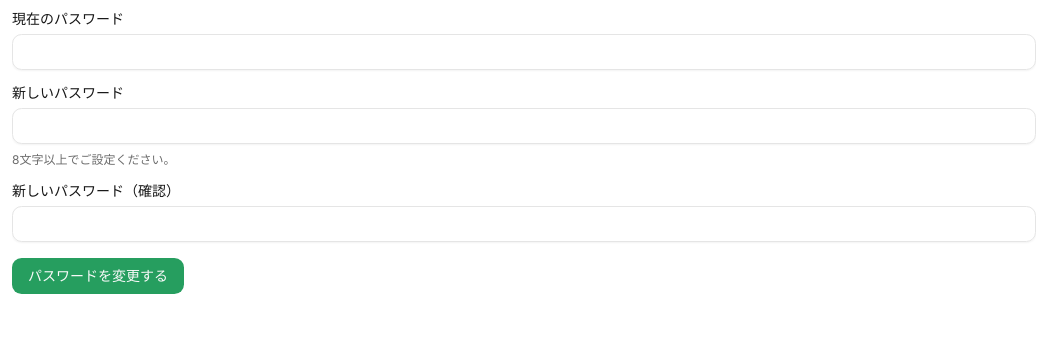
PasswordChangeForm › surfaces a 422 field error on the current password field
This screenshot has width=1048, height=339.
Step 1. Type "wrong" into the password field labelled "現在のパスワード" → (524, 52), box 12,34 -> 1036,70
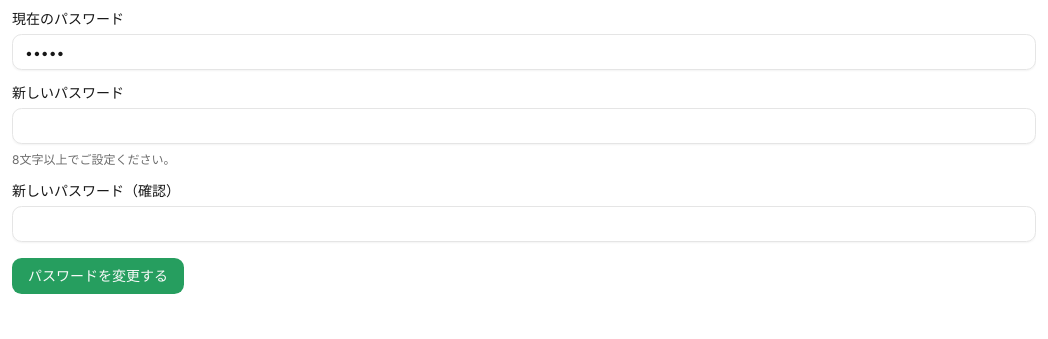
Step 2. Type "newpass123" into the password field labelled "新しいパスワード" → (524, 126), box 12,108 -> 1036,144
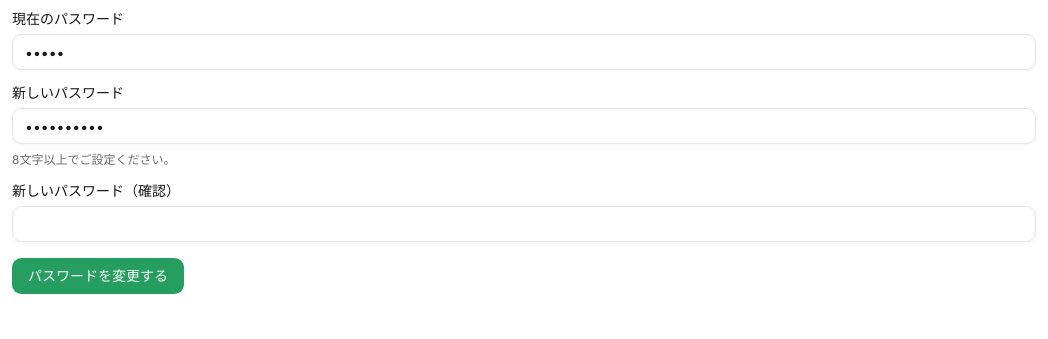
Step 3. Type "newpass123" into the password field labelled "新しいパスワード（確認）" → (524, 224), box 12,206 -> 1036,242
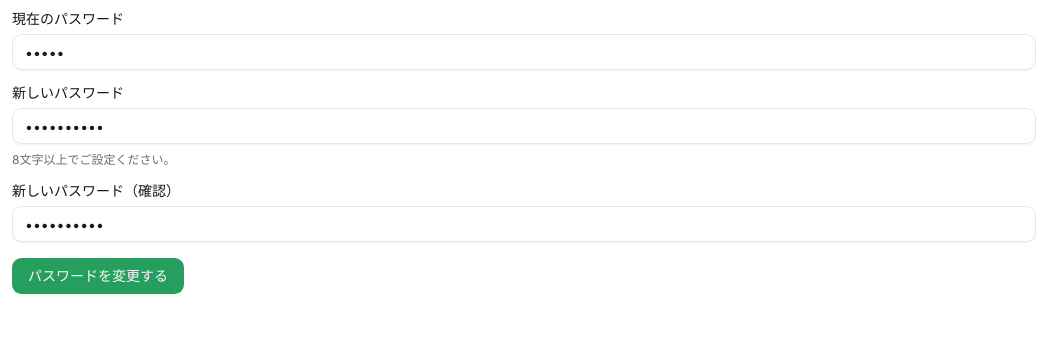
Step 4. Click the button "パスワードを変更する" → (98, 276), box 12,258 -> 184,294
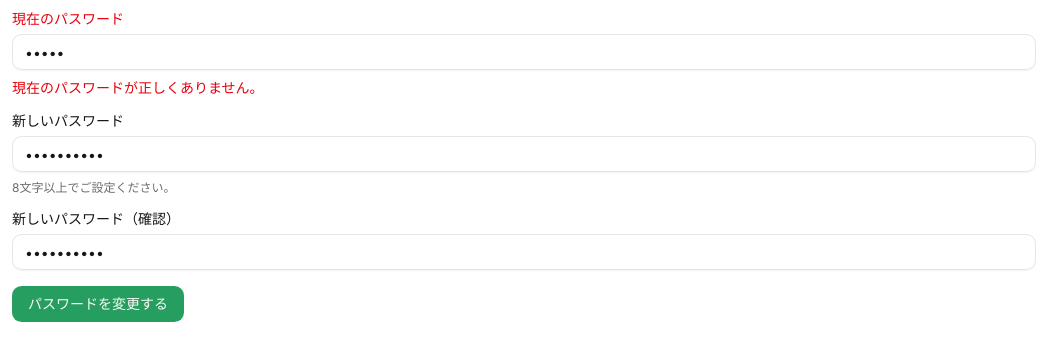
expect the text "現在のパスワードが正しくありません。" is shown: met, box 12,79 -> 264,96
